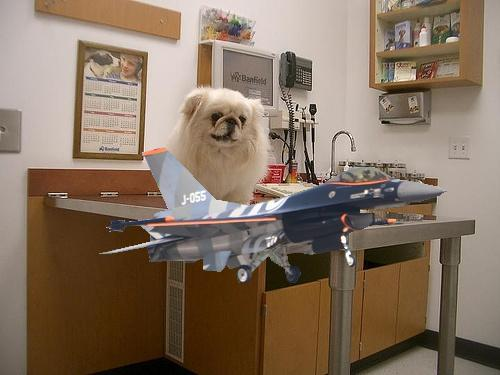tampered: (100, 148, 447, 283)
